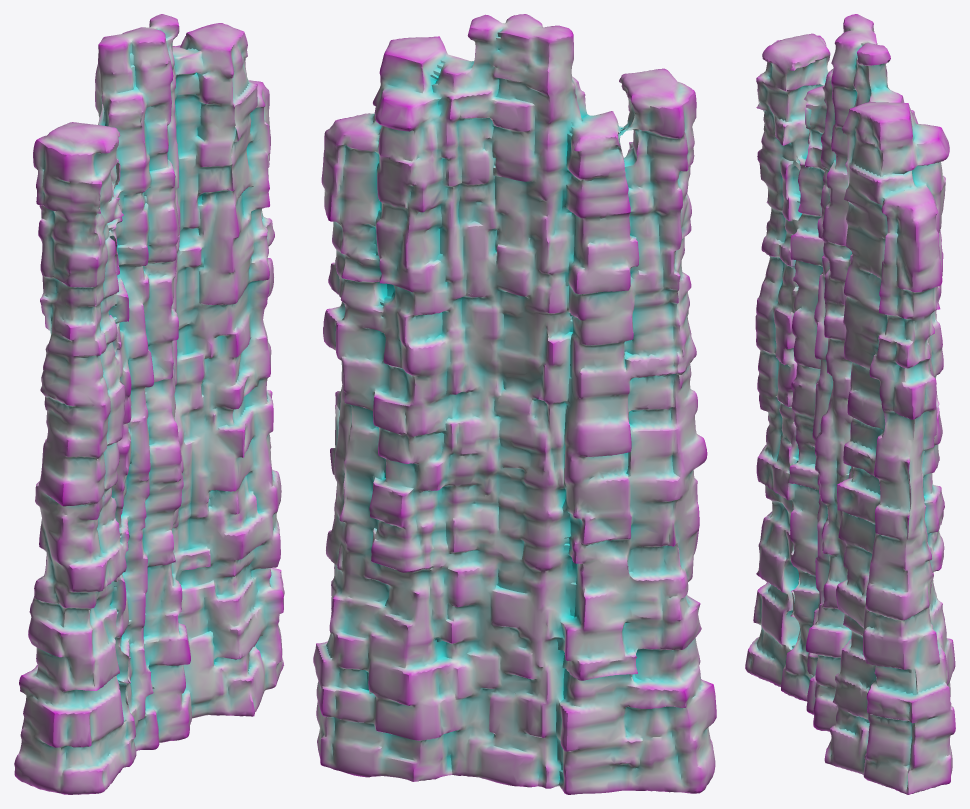
Rendered from Macico_3.fbx.
The picture shows the model from 3 angles, left to right: view 1: azimuth 30°, elevation 25°; view 2: azimuth 150°, elevation 25°; view 3: azimuth 270°, elevation 25°; orthographic projection. The views are drawn at different scales.
Parts seen in each view (by area): view 1: Macico_3; view 2: Macico_3; view 3: Macico_3.
Boxes of the visible parts, x1,y1,x2,y2 form: Macico_3: (14, 14, 284, 794); Macico_3: (313, 14, 716, 794); Macico_3: (745, 14, 955, 794).
Bounding box in the file's own units: 156 × 331 × 91.76.
